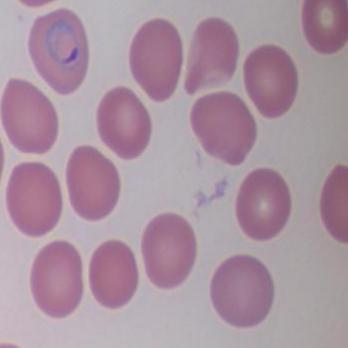Infected: (26, 8, 91, 94)
Uninfected: (210, 252, 274, 329), (130, 18, 184, 105), (0, 75, 58, 156), (192, 92, 255, 166), (66, 144, 121, 223), (32, 238, 84, 320), (142, 211, 195, 291), (6, 162, 63, 236), (235, 168, 291, 242), (98, 86, 150, 163), (242, 44, 296, 118), (186, 17, 239, 91), (90, 238, 138, 309)
